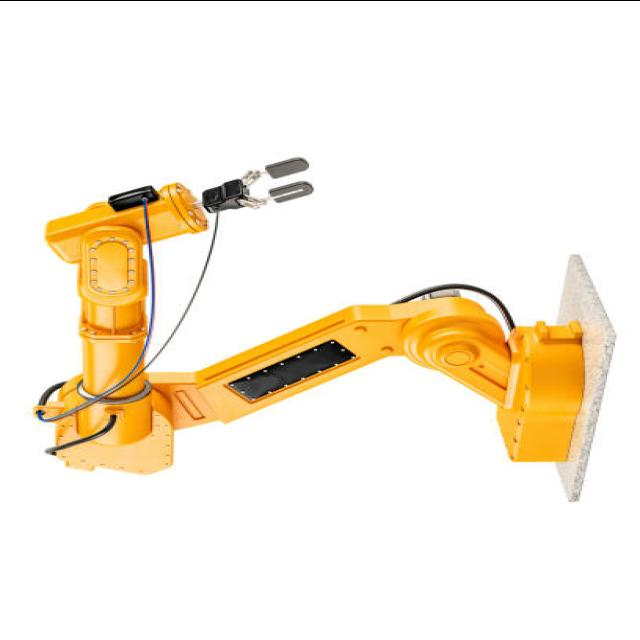Robotic-arm: (37, 148, 624, 510)
